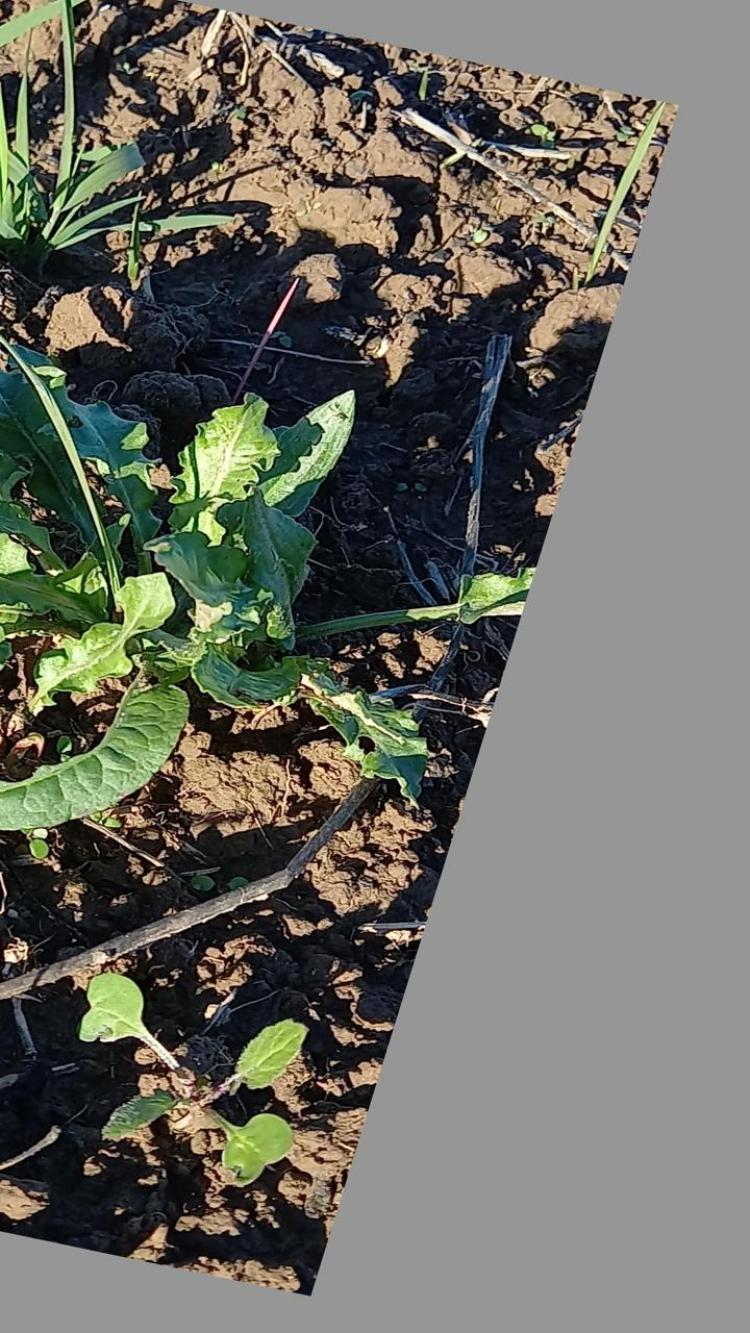zhavel: (0, 333, 456, 831)
